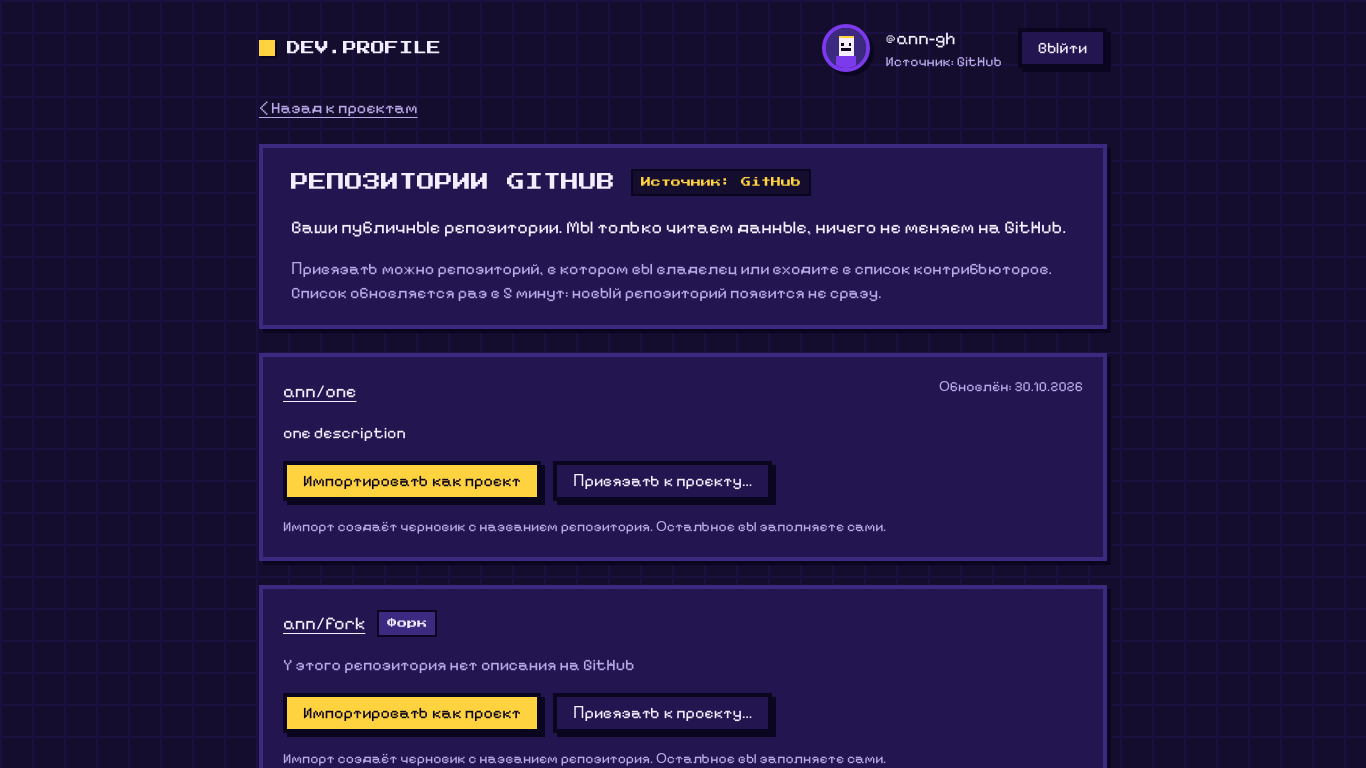
Scenario: import › PROJECT_LIMIT_REACHED shows its message and the button is active again
This screenshot has width=1366, height=768.
Click the button "Импортировать как проект" below "ann/one": (412, 481) [283, 461, 541, 501]
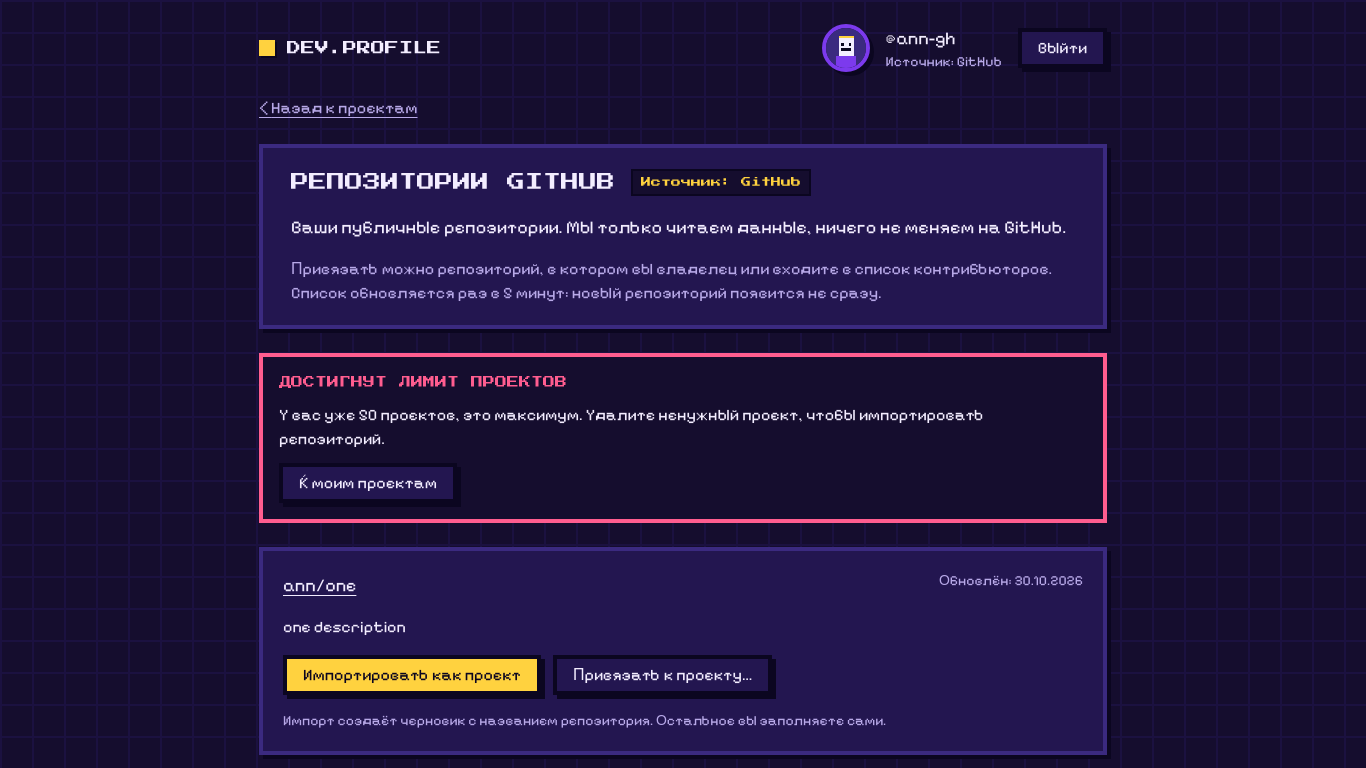
Expected: the button "Импортировать как проект" is shown, [283, 655, 541, 695]
Expected: the text "Достигнут лимит проектов" is shown, [279, 373, 567, 391]
Expected: the text "У вас уже 50 проектов, это максимум" is shown, [279, 405, 984, 448]
